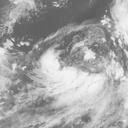cyclone: (26, 33, 113, 107)
